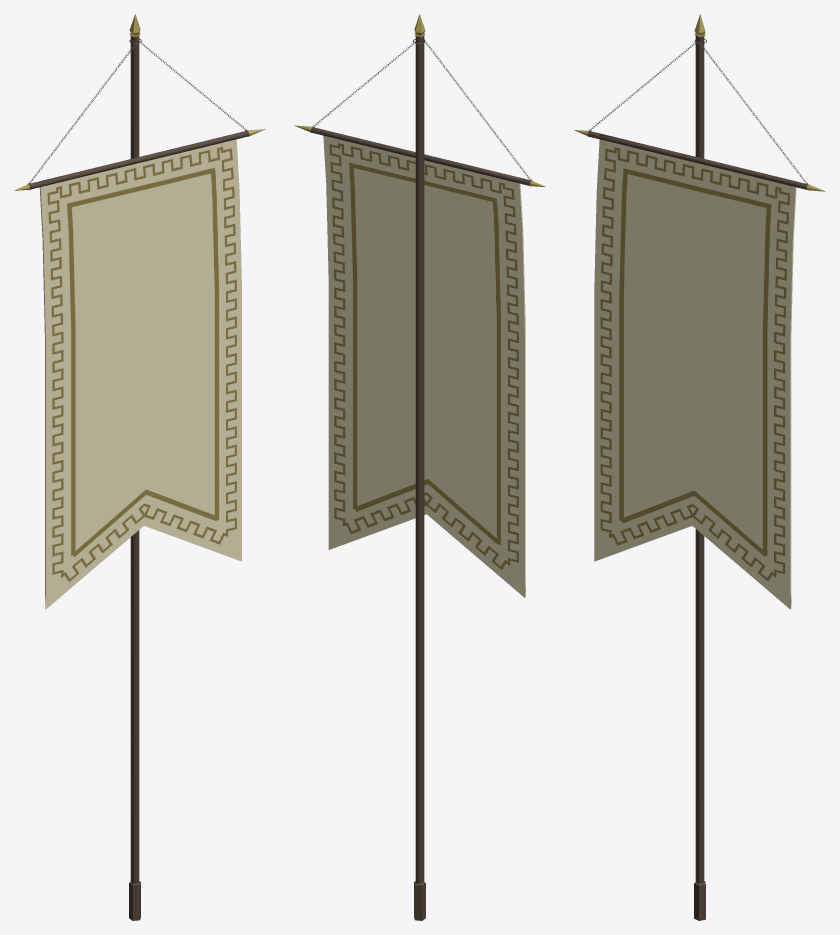
The model's file is FlagModel 1.fbx.
3 renders of one model, left to right at view 1: azimuth 30°, elevation 25°; view 2: azimuth 150°, elevation 25°; view 3: azimuth 330°, elevation 25°, orthographic.
Parts seen in each view (by area): view 1: Flag, Cylinder016, Banner_02; view 2: Flag, Cylinder016, Banner_02; view 3: Flag, Cylinder016, Banner_02.
Boxes of the visible parts, left/top/right/bottom form: Flag: left=14, top=129, right=265, bottom=609; Cylinder016: left=129, top=14, right=140, bottom=920; Banner_02: left=29, top=39, right=247, bottom=183; Flag: left=294, top=125, right=545, bottom=597; Cylinder016: left=414, top=14, right=425, bottom=920; Banner_02: left=312, top=39, right=530, bottom=179; Flag: left=574, top=130, right=825, bottom=609; Cylinder016: left=694, top=14, right=705, bottom=920; Banner_02: left=589, top=39, right=807, bottom=183.
Size of the model in its own units: 3.08 by 10.57 by 0.2493.
Materials: 1 (1 with a texture image).
